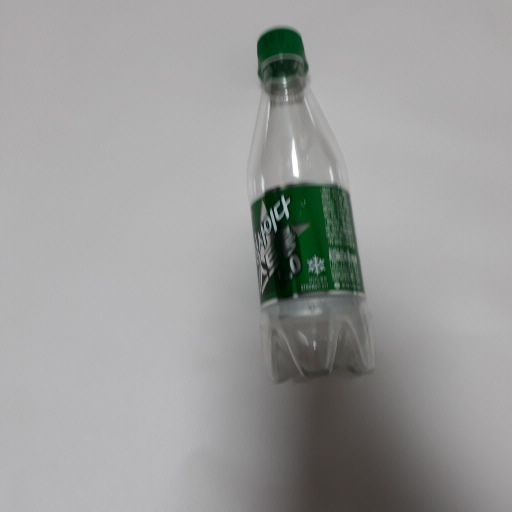Plastic_0: (238, 24, 375, 379)
